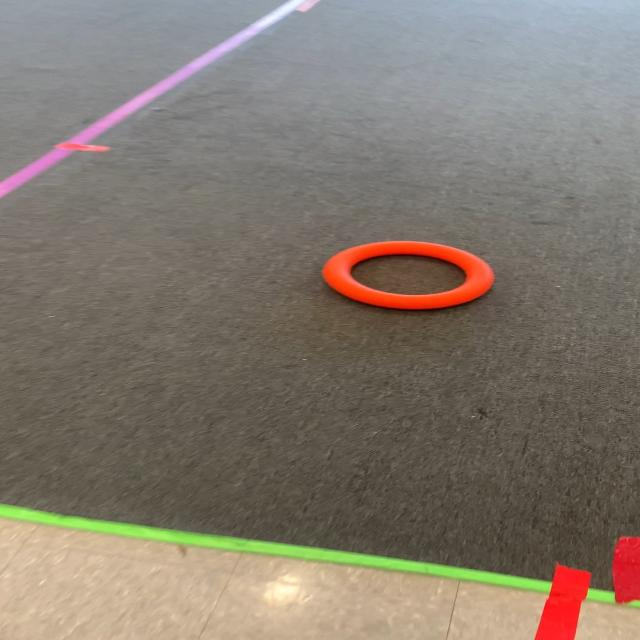notes: (322, 241, 497, 310)
